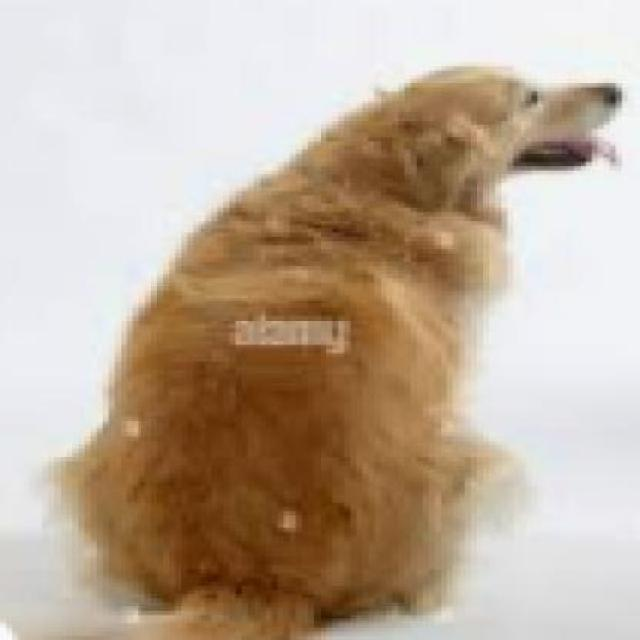Dog: (6, 63, 634, 637)
